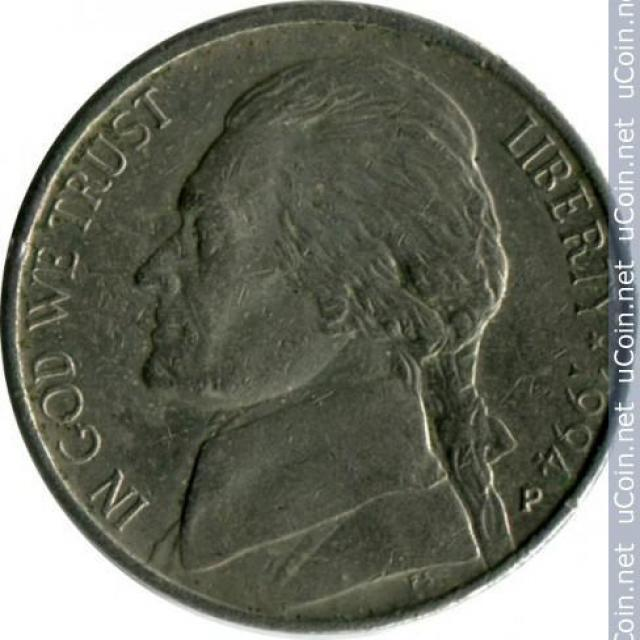Nickel: (11, 0, 638, 639)
